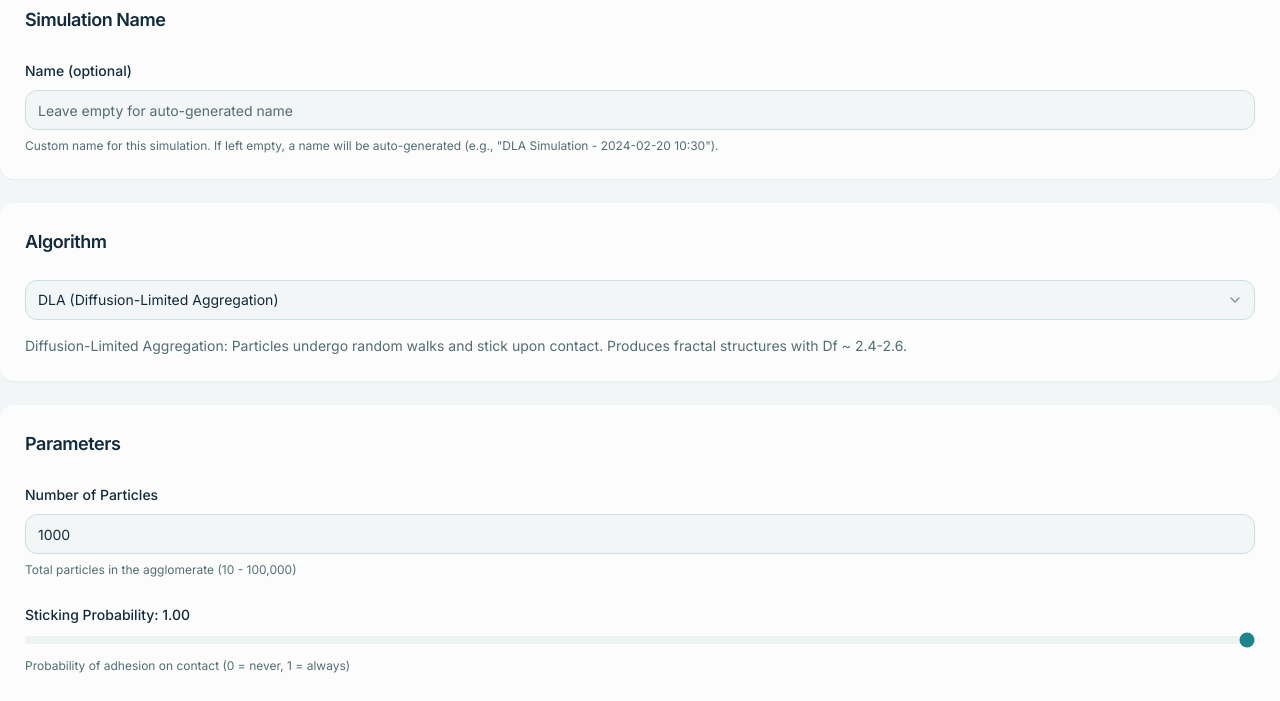
SimulationForm — dpo distribution (PYA-15 P5.3-P5.5) › renders dpo distribution selector for tunable_cc algorithm
Select "Tunable CC (Cluster-Cluster)" in the dropdown. click: (640, 300)
box: [25,280,1255,320]
(page scrolled)
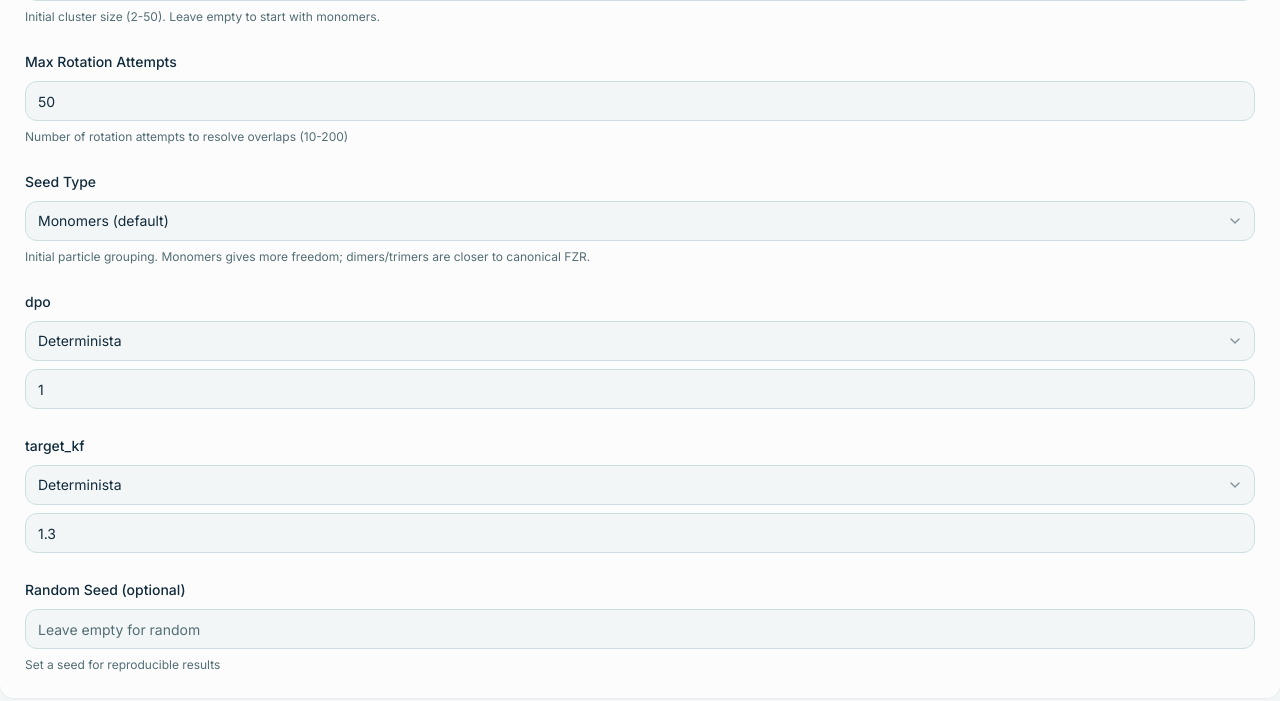
Check: the text "dpo" is shown, box [25,293,51,310]
Check: the 2nd dropdown is shown, box [25,321,1255,361]
